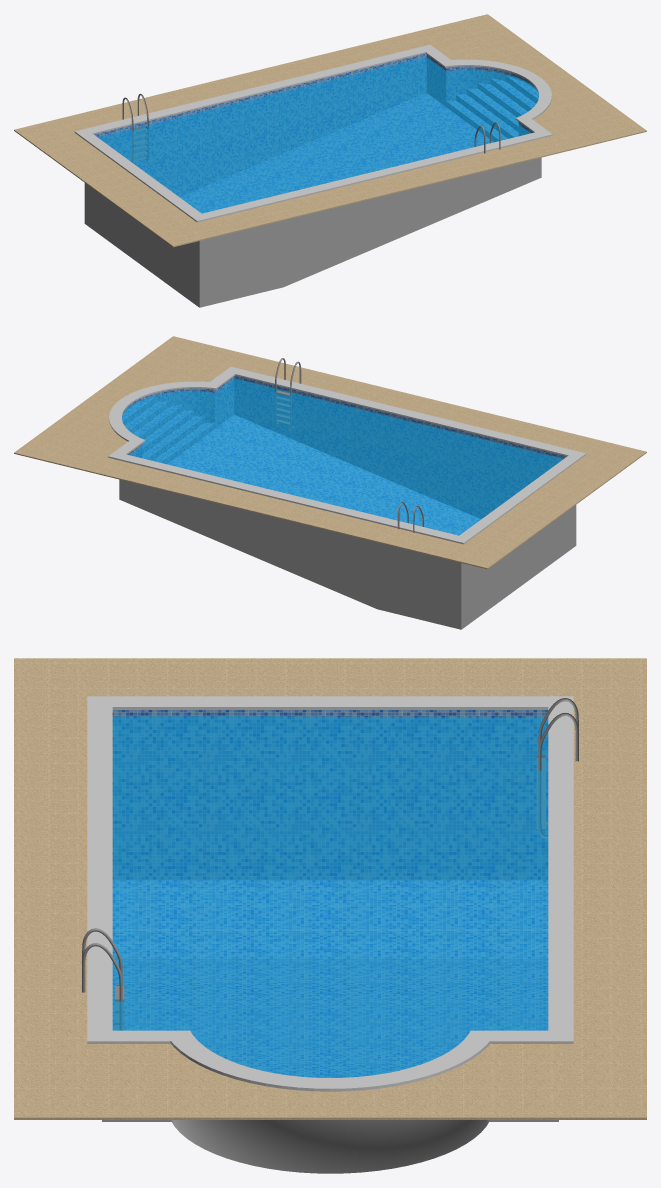
Rendered from sweethome3d-scopia-swimming-pool.glb.
3 views of the same model, one above another, from view 1: azimuth 30°, elevation 25°; view 2: azimuth 150°, elevation 25°; view 3: azimuth 270°, elevation 25° (orthographic). The views are drawn at different scales.
Parts seen in each view (by area): view 1: water_Circle.003, int-wall_Cube, border_Circle.004, ext-wall_Circle.002, stone_Circle.001, Circle, BezierCurve.001_Mesh.001; view 2: water_Circle.003, int-wall_Cube, border_Circle.004, ext-wall_Circle.002, stone_Circle.001, Circle, BezierCurve.001_Mesh.001; view 3: int-wall_Cube, water_Circle.003, border_Circle.004, stone_Circle.001, ext-wall_Circle.002, BezierCurve.001_Mesh.001.
Boxes of the visible parts, x1,y1,x2,y2 form: water_Circle.003: [98, 57, 538, 213]; int-wall_Cube: [94, 53, 538, 213]; border_Circle.004: [14, 14, 646, 247]; ext-wall_Circle.002: [84, 157, 541, 307]; stone_Circle.001: [74, 45, 552, 222]; Circle: [446, 66, 537, 100]; BezierCurve.001_Mesh.001: [122, 93, 500, 162]; water_Circle.003: [122, 378, 563, 535]; int-wall_Cube: [122, 375, 566, 535]; border_Circle.004: [14, 336, 646, 569]; ext-wall_Circle.002: [119, 479, 576, 629]; stone_Circle.001: [108, 367, 586, 544]; Circle: [123, 388, 214, 422]; BezierCurve.001_Mesh.001: [275, 358, 423, 532]; int-wall_Cube: [112, 710, 548, 1077]; water_Circle.003: [112, 716, 548, 1077]; border_Circle.004: [14, 658, 646, 1119]; stone_Circle.001: [87, 696, 573, 1091]; ext-wall_Circle.002: [102, 1120, 558, 1173]; BezierCurve.001_Mesh.001: [82, 698, 578, 1030].
Size of the model in its own units: 1713 by 395 by 998.
Materials: 6 (2 with a texture image).
